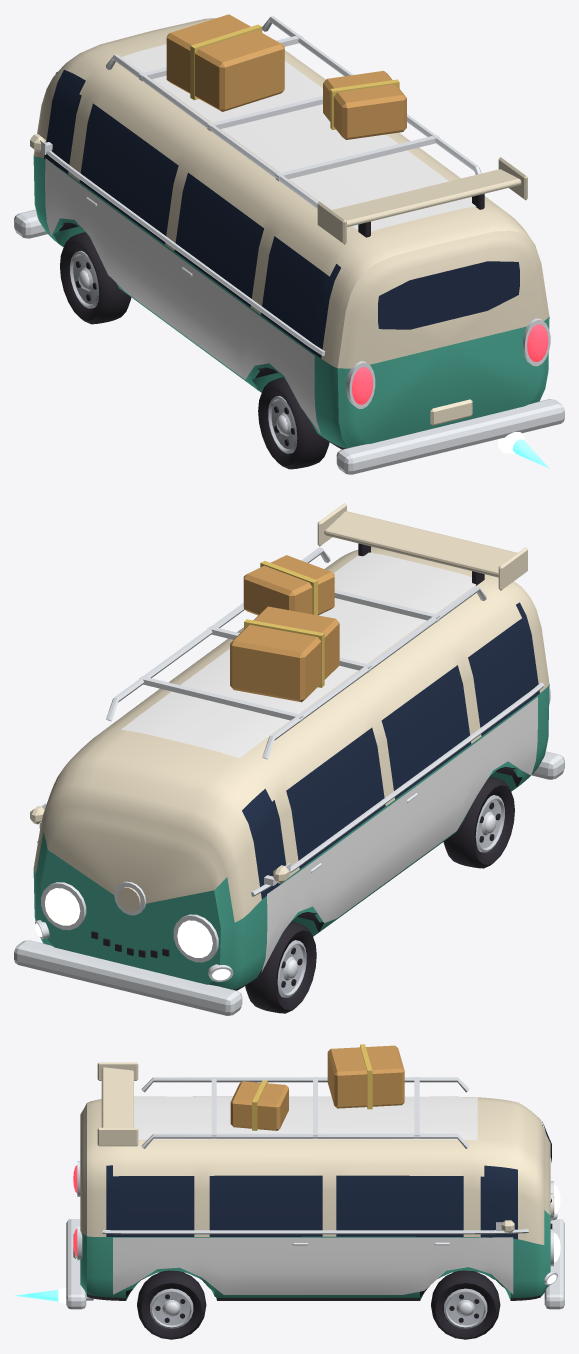
The model's file is car_van.glb.
3 views of the same model, one above another, from view 1: azimuth 30°, elevation 25°; view 2: azimuth 150°, elevation 25°; view 3: azimuth 270°, elevation 25° (orthographic). The views are drawn at different scales.
Visible parts, largest first — view 1: Body, Vinyl, Spoiler, WheelRL, WheelFL, NitroFlame; view 2: Body, Vinyl, Spoiler, WheelFL, WheelRL; view 3: Body, Vinyl, WheelRR, WheelFR, Spoiler, NitroFlame.
Boxes of the visible parts, bbox=[...] form: Body: bbox=[14, 14, 564, 474]; Vinyl: bbox=[45, 44, 476, 433]; Spoiler: bbox=[317, 157, 527, 244]; WheelRL: bbox=[258, 377, 329, 469]; WheelFL: bbox=[60, 232, 131, 324]; NitroFlame: bbox=[498, 432, 548, 468]; Body: bbox=[14, 546, 564, 1015]; Vinyl: bbox=[121, 552, 537, 972]; Spoiler: bbox=[317, 503, 527, 590]; WheelFL: bbox=[245, 921, 316, 1013]; WheelRL: bbox=[443, 776, 514, 868]; Body: bbox=[66, 1044, 564, 1309]; Vinyl: bbox=[113, 1096, 513, 1294]; WheelRR: bbox=[137, 1270, 206, 1339]; WheelFR: bbox=[431, 1270, 500, 1339]; Spoiler: bbox=[97, 1062, 138, 1146]; NitroFlame: bbox=[14, 1287, 66, 1304].
Size of the model in its own units: 2.15 by 2.56 by 5.43.
